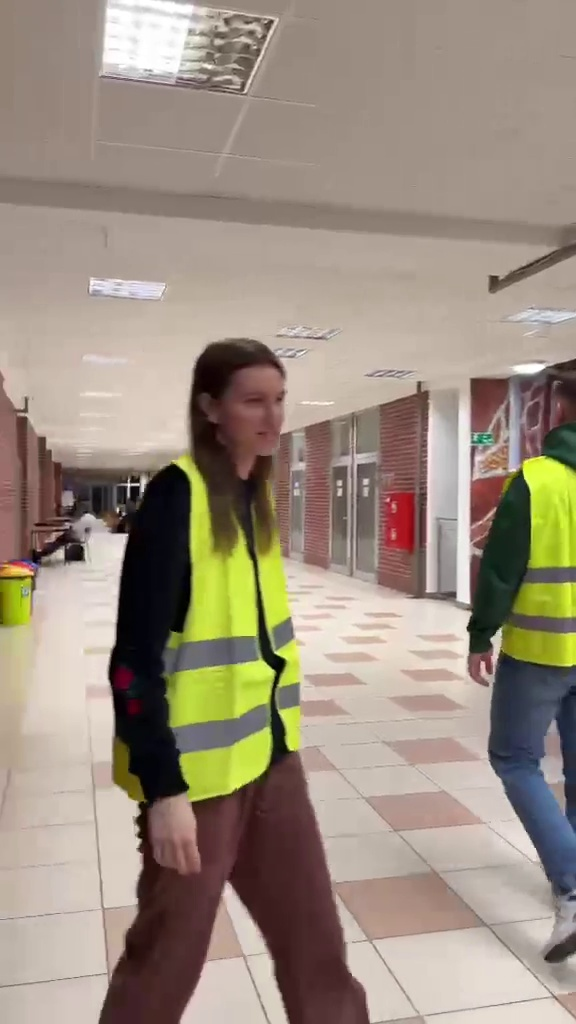vest: (85, 328, 387, 1019), (469, 369, 576, 951)
